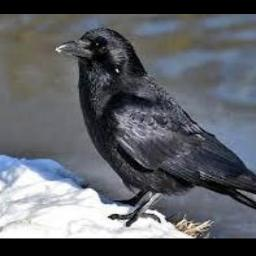Crow: (56, 27, 256, 231)
